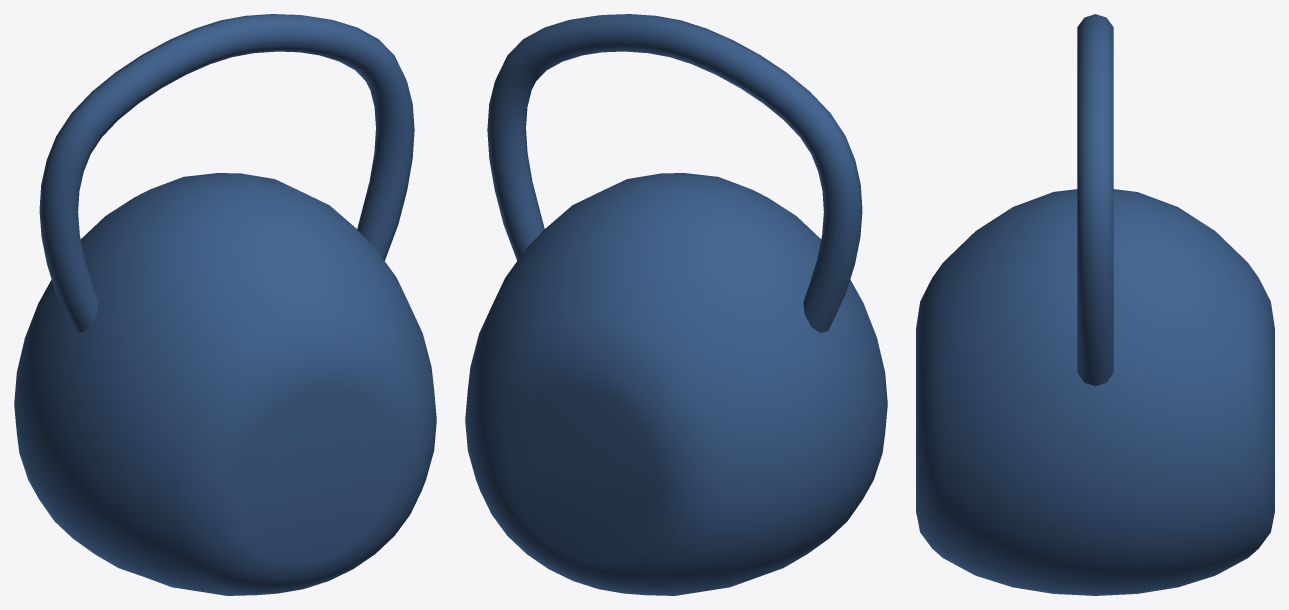
Rendered from F_SmallKettle_01.fbx.
The picture shows the model from 3 angles, left to right: view 1: azimuth 30°, elevation 25°; view 2: azimuth 150°, elevation 25°; view 3: azimuth 270°, elevation 25°; orthographic projection.
Visible parts, largest first — view 1: F_SmallKettle_01; view 2: F_SmallKettle_01; view 3: F_SmallKettle_01.
Boxes of the visible parts, bbox=[...] form: F_SmallKettle_01: bbox=[14, 14, 436, 595]; F_SmallKettle_01: bbox=[465, 14, 887, 595]; F_SmallKettle_01: bbox=[916, 14, 1274, 595].
Size of the model in its own units: 27.59 by 38.19 by 23.57.
